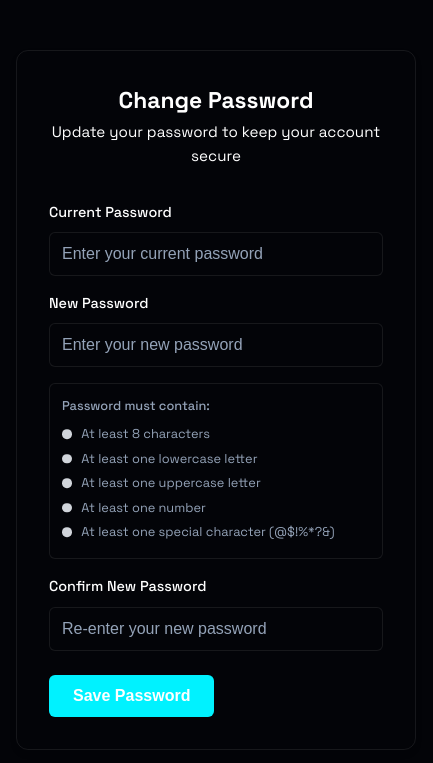
Test: ChangePasswordForm › Error handling › should handle non-Error exceptions
Type "OldPass123!" into the password field labelled "Current Password" at (216, 254), box x1=49 y1=232 x2=383 y2=276
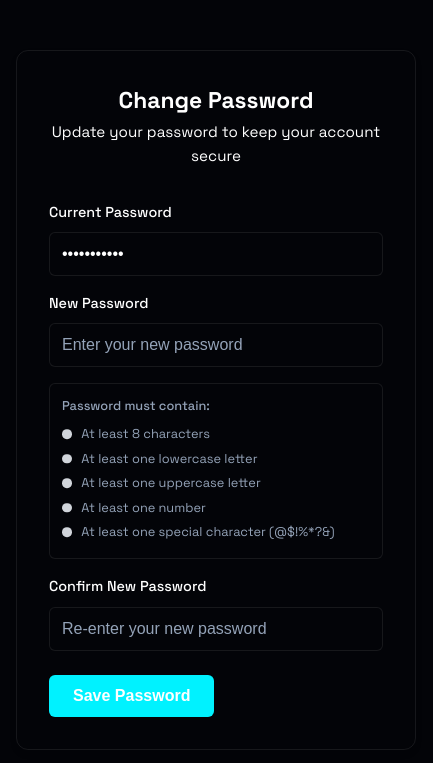
Type "NewPass123!" into the password field labelled "New Password" at (216, 345), box x1=49 y1=323 x2=383 y2=367
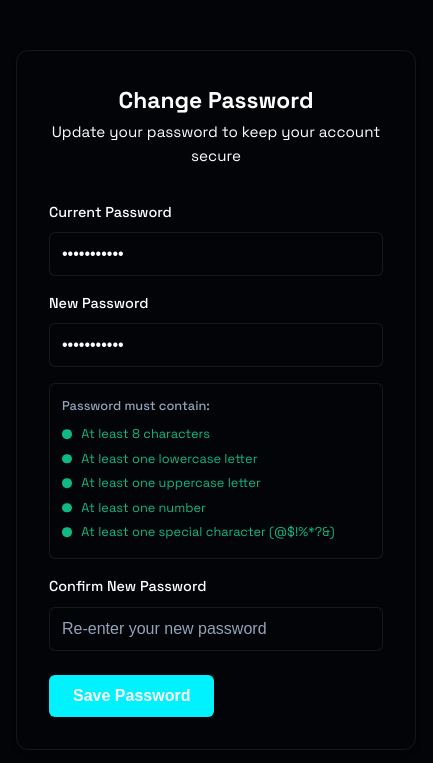
Type "NewPass123!" into the password field labelled "Confirm New Password" at (216, 628), box x1=49 y1=606 x2=383 y2=650
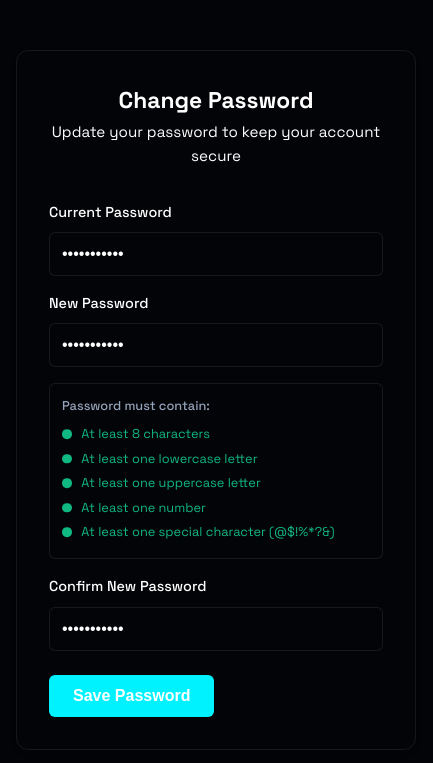
Click the button "Save Password" at (132, 696), box x1=49 y1=674 x2=214 y2=716
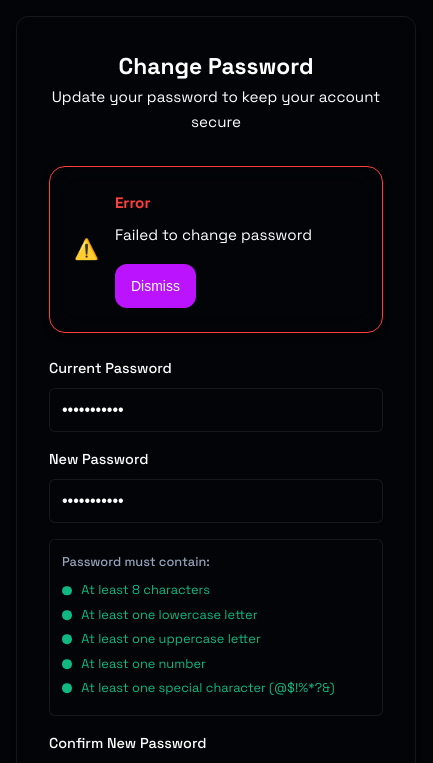
Result: the text "Failed to change password" is shown at x1=115 y1=225 x2=312 y2=244
